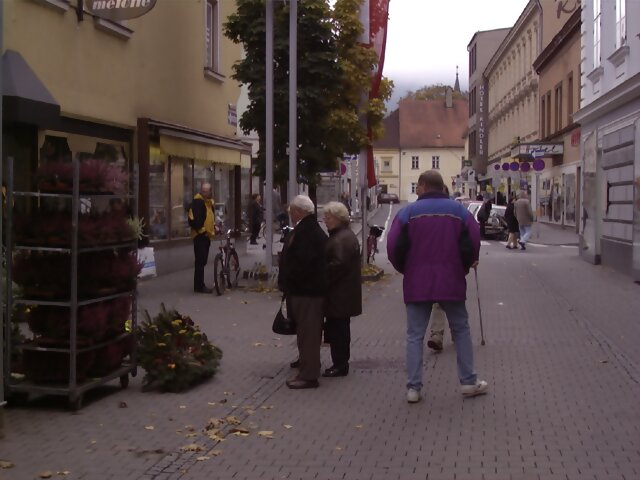person: (386, 168, 500, 408), (264, 188, 338, 397), (318, 197, 376, 381)
